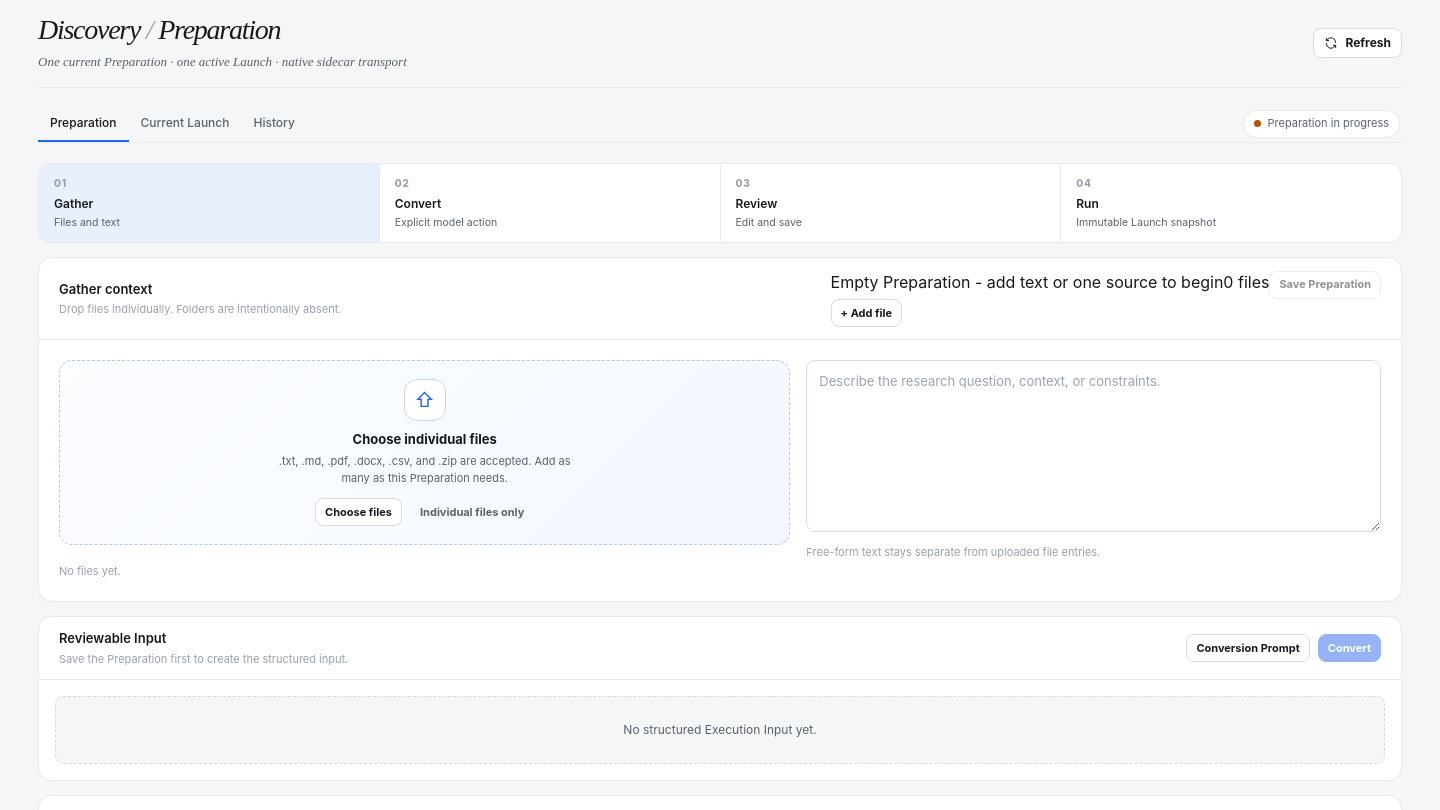
it: renders one empty Discovery shell with internal context navigation
This screenshot has width=1440, height=810.
Expected: the heading "Gather context" is shown, [59, 281, 152, 297]
Expected: the text "Empty Preparation - add text or one source to begin" is shown, [831, 272, 1223, 292]
Click the tab "Current Launch" at coordinates (185, 124), box [128, 106, 242, 142]
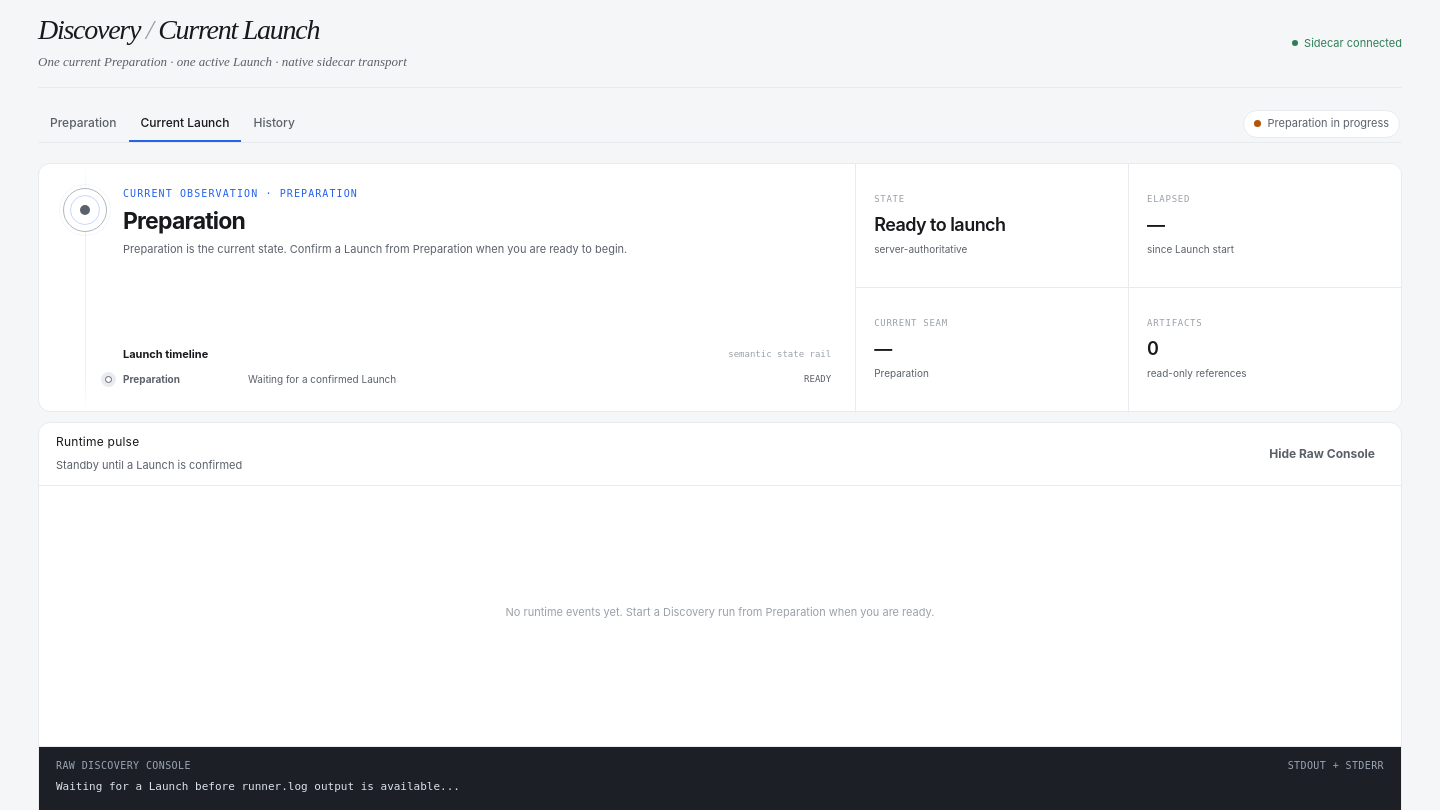
Expected: the heading "Preparation" is shown, [123, 207, 245, 235]
Expected: the text "CURRENT OBSERVATION · PREPARATION" is shown, [123, 188, 358, 199]
Expected: the text "Ready to launch" is shown, [874, 214, 1006, 235]
Click the tab "History" at coordinates (274, 124), box [242, 106, 307, 142]
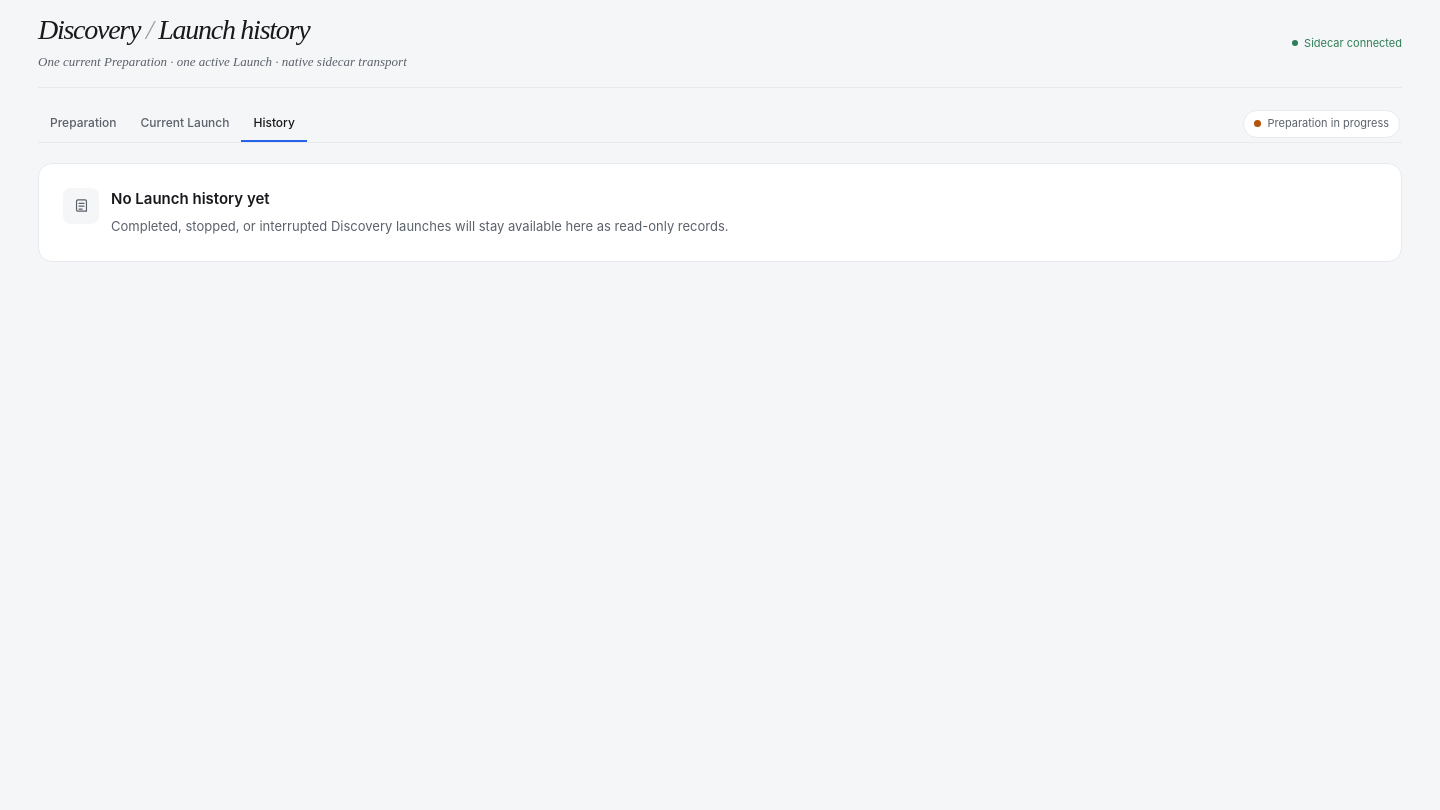
Expected: the heading "No Launch history yet" is shown, [111, 189, 270, 208]
